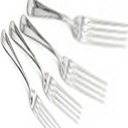Fork: (2, 28, 123, 128), (25, 2, 128, 44)
